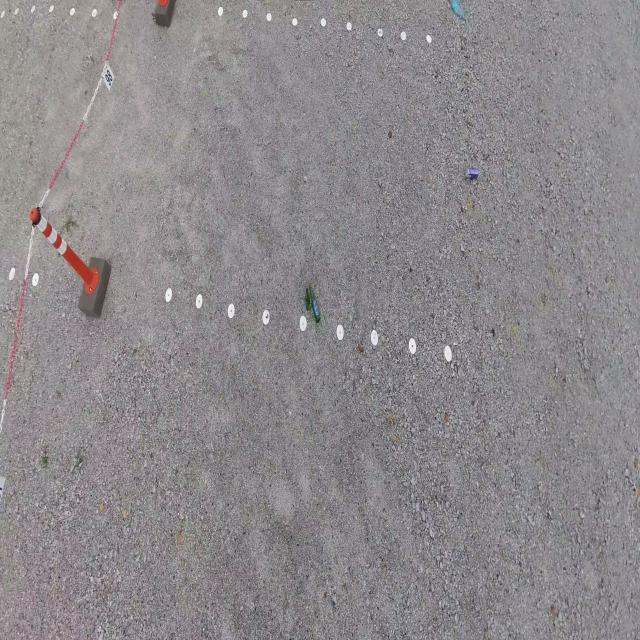rubbish: (309, 287, 321, 324), (448, 0, 466, 21), (466, 167, 479, 180), (305, 289, 310, 309), (388, 130, 393, 136)
